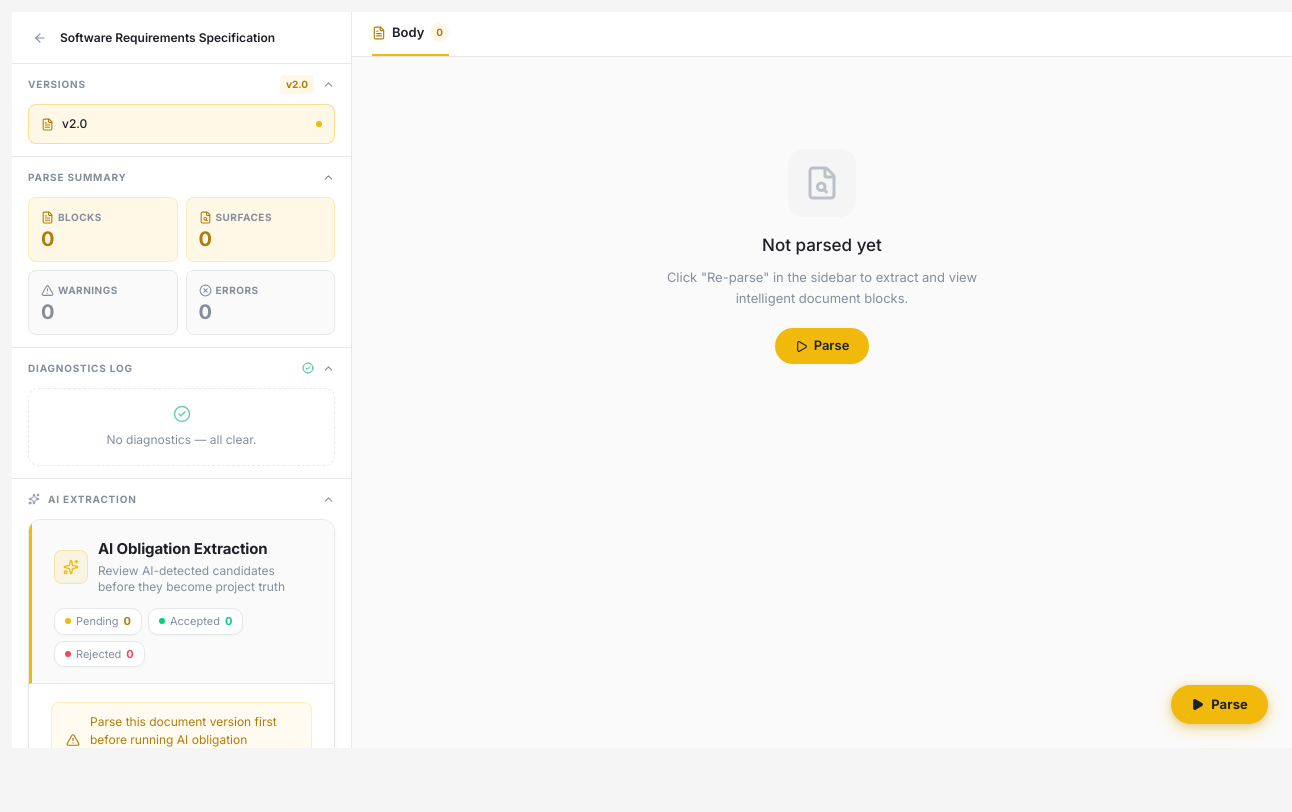
ParserWorkspacePage › parses a pending version directly from the workspace
expect the heading "Not parsed yet" is shown: met, box [762,233,882,259]
Click the button with aria-label "parse v2.0" at (1220, 704), box [1171,684,1268,724]
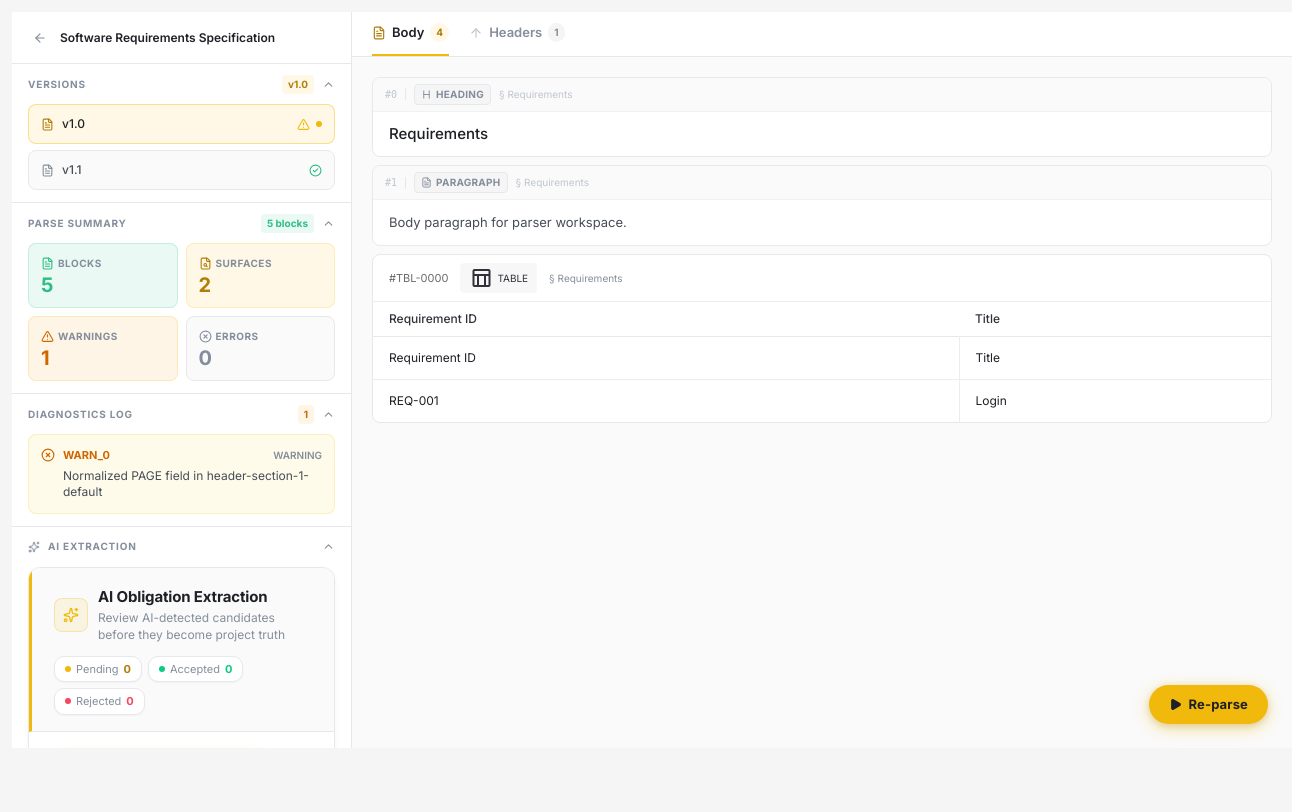
expect the text "Body paragraph for parser workspace." is shown: met, box [389,214,627,230]
